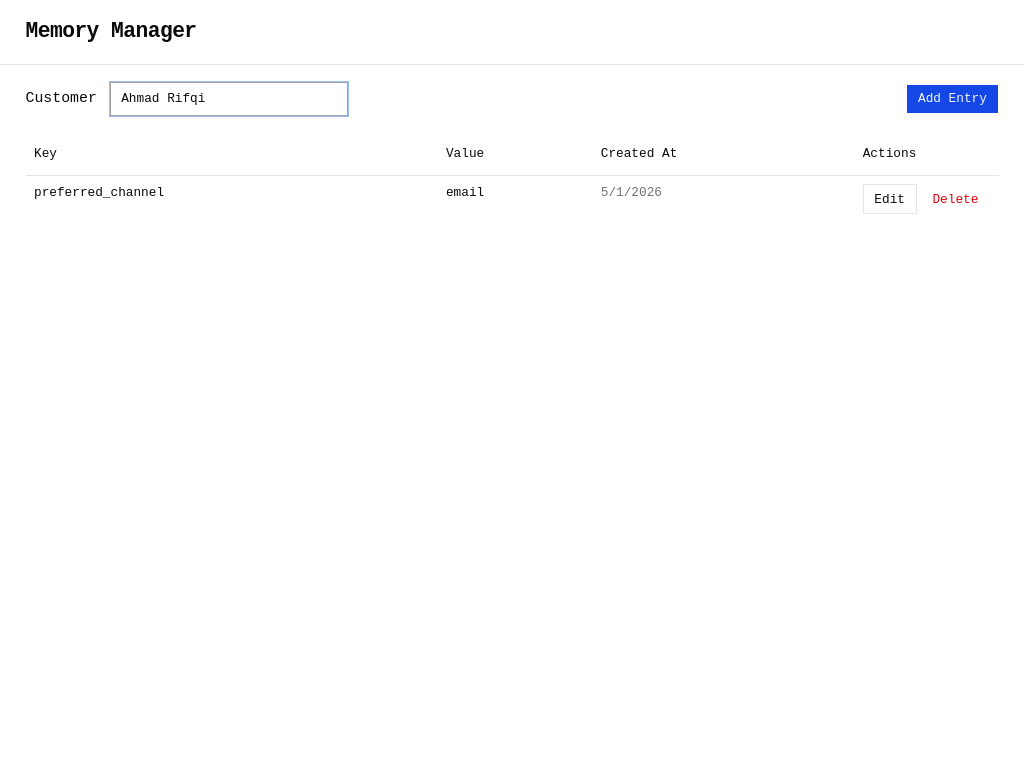
it: MemoryPage › opens Delete confirmation dialog and removes entry on confirm
The image size is (1024, 768).
Type keys " "
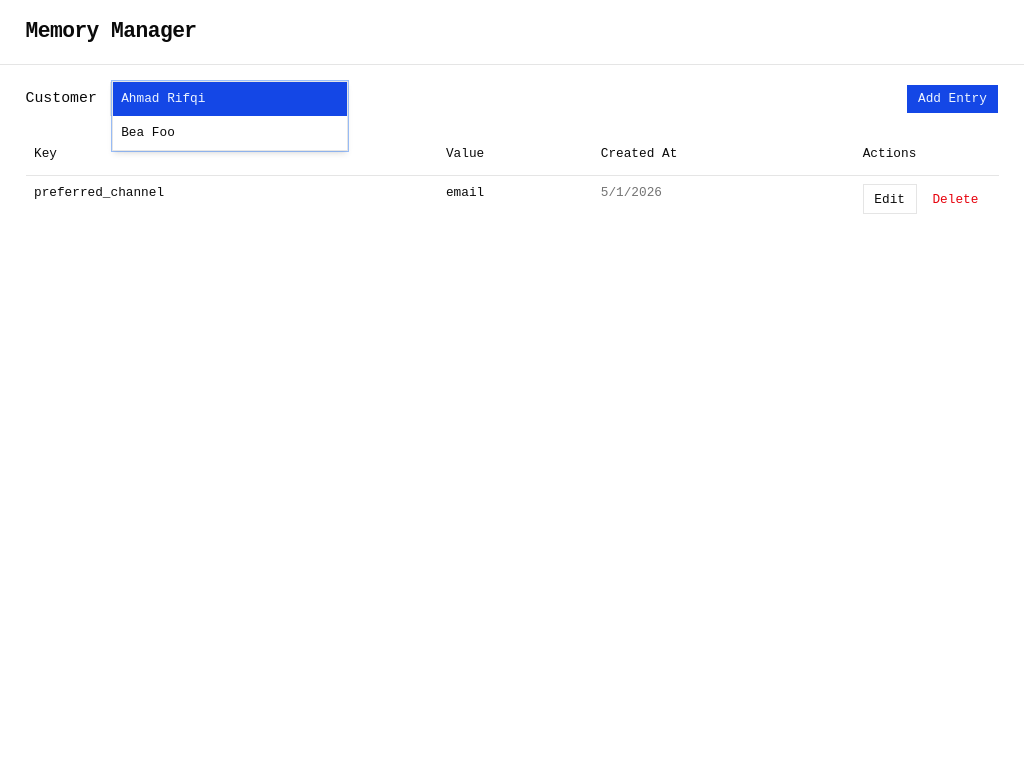
Expected: the dropdown named "customer" has attribute data-state="open"
Click the option "Ahmad Rifqi": point(230, 99) [113,82,347,116]
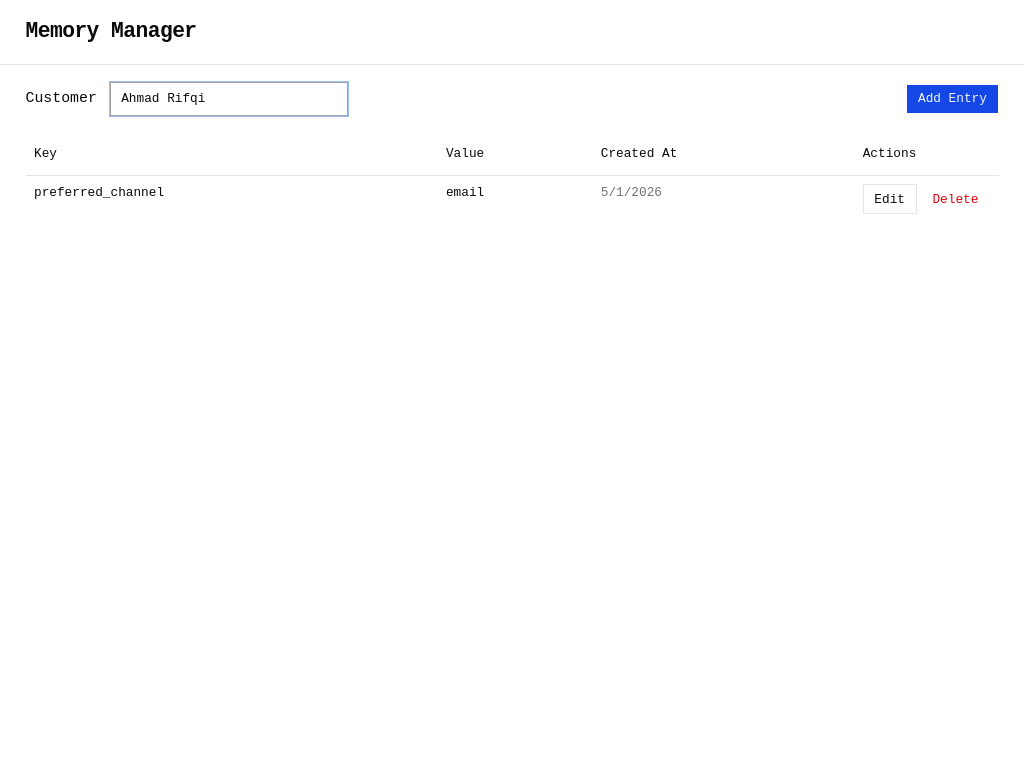
Click the button "Delete": point(955, 199) [921,184,990,214]
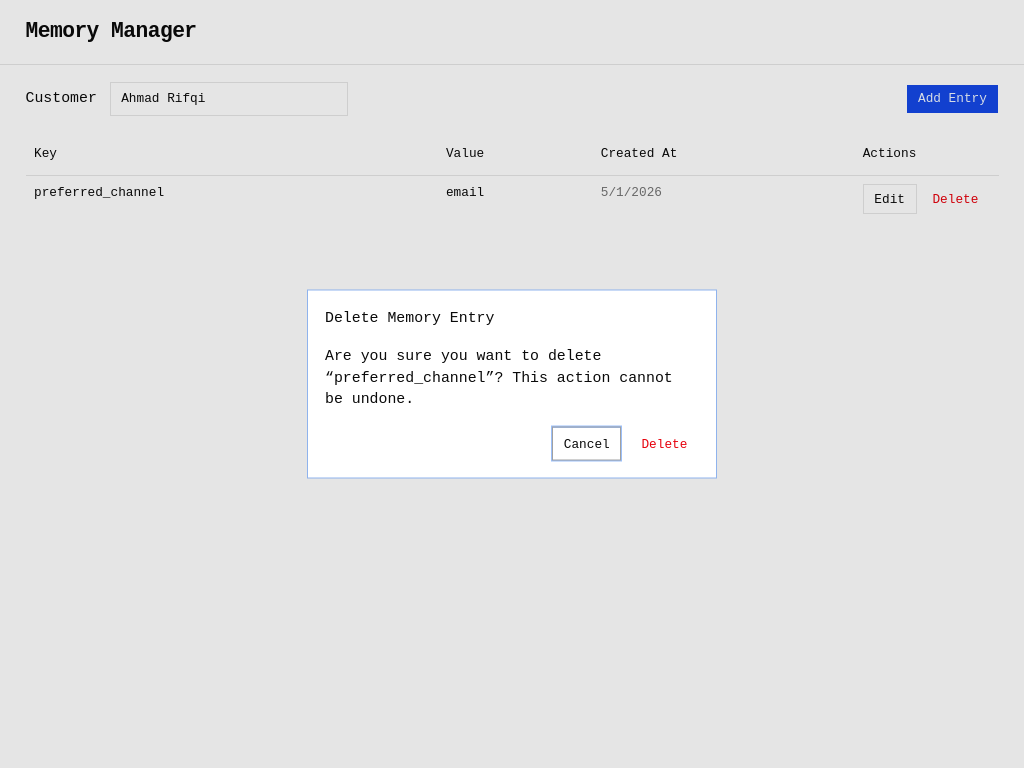
Expected: the text "preferred_channel" is shown, [334,369,486,385]
Click the button "Delete": point(664, 444) [630,426,699,460]
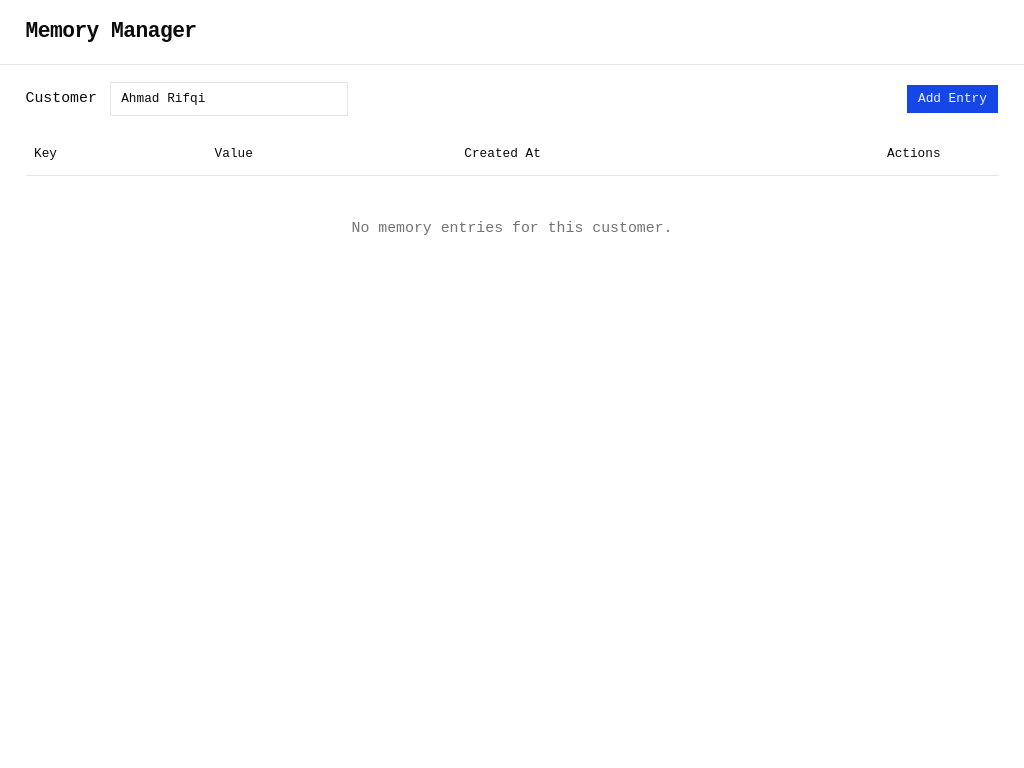
Expected: the text "No memory entries for this customer." is shown, [26,175,998,282]
Expected: the cell "preferred_channel" is gone
